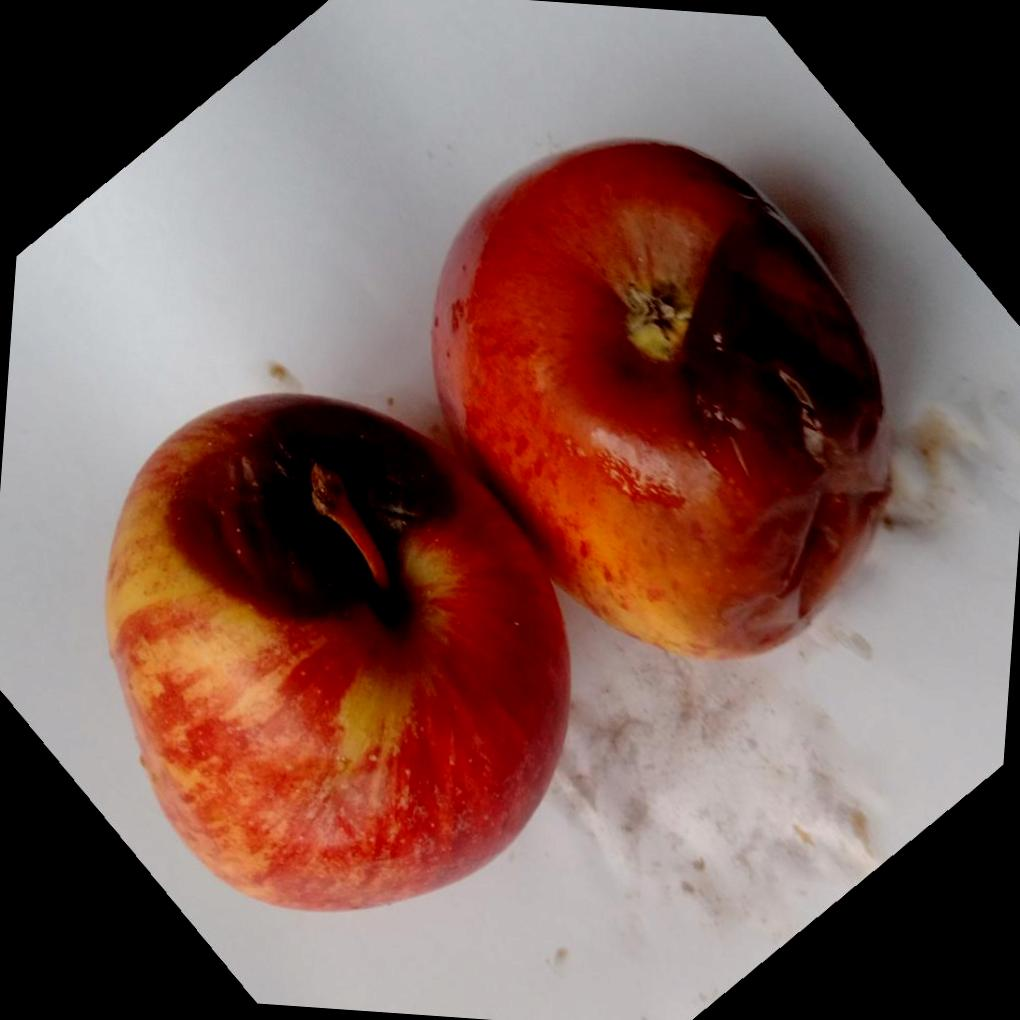FreshOrange: (102, 140, 895, 916)
